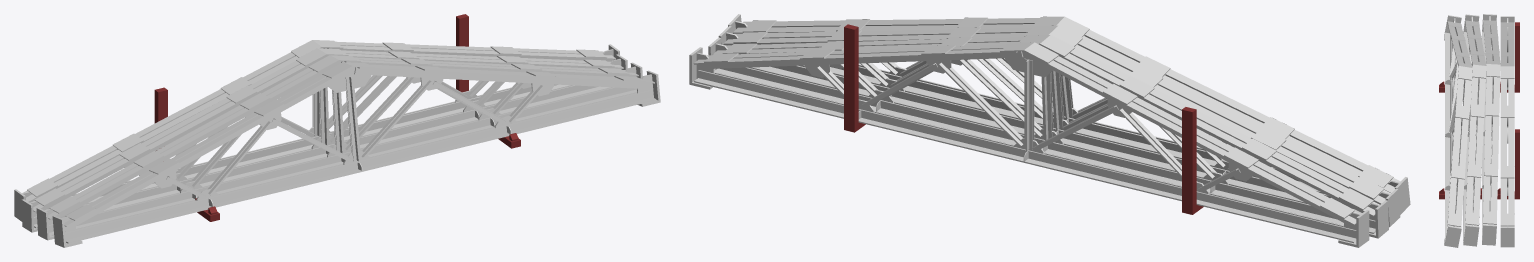
Rendered from SM_Truss01Pack.fbx.
3 views of the same model, side by side, from view 1: azimuth 30°, elevation 25°; view 2: azimuth 150°, elevation 25°; view 3: azimuth 270°, elevation 25° (orthographic). The views are drawn at different scales.
Parts seen in each view (by area): view 1: Truss01PackConstr, Truss01PackBeams; view 2: Truss01PackConstr, Truss01PackBeams; view 3: Truss01PackConstr, Truss01PackBeams.
Boxes of the visible parts, <box> form: Truss01PackConstr: <box>14,40,660,247</box>; Truss01PackBeams: <box>154,14,520,221</box>; Truss01PackConstr: <box>689,14,1410,247</box>; Truss01PackBeams: <box>844,24,1203,214</box>; Truss01PackConstr: <box>1444,14,1514,247</box>; Truss01PackBeams: <box>1439,22,1519,199</box>.
Bounding box in the file's own units: 1213 × 208 × 194.
